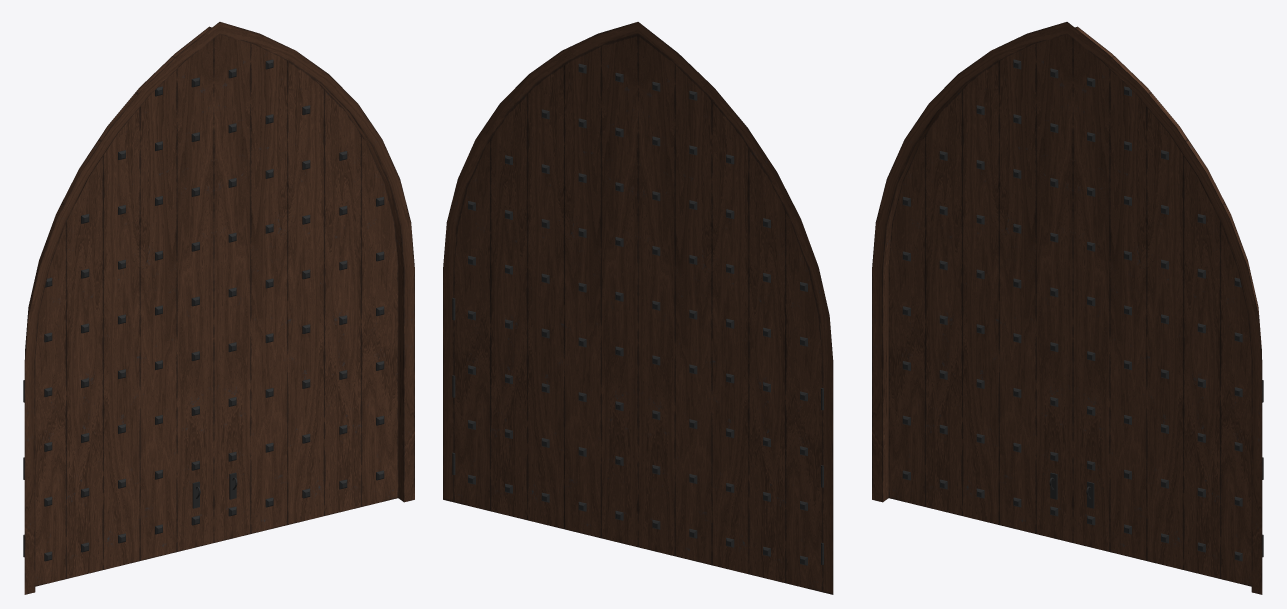
File: Door_I_Frame.fbx
The picture shows the model from 3 angles, left to right: view 1: azimuth 30°, elevation 25°; view 2: azimuth 150°, elevation 25°; view 3: azimuth 330°, elevation 25°; orthographic projection.
Parts seen in each view (by area): view 1: Door_I_A, Door_I_B, Door_I_Frame; view 2: Door_I_A, Door_I_B, Door_I_Frame; view 3: Door_I_B, Door_I_A, Door_I_Frame.
Part boxes in pixels (x1,y1,x2,y2): Door_I_A: [210, 27, 398, 542]; Door_I_B: [23, 26, 213, 586]; Door_I_Frame: [24, 22, 414, 594]; Door_I_A: [452, 34, 638, 547]; Door_I_B: [638, 34, 823, 592]; Door_I_Frame: [443, 22, 833, 594]; Door_I_B: [888, 27, 1076, 542]; Door_I_A: [1073, 26, 1263, 586]; Door_I_Frame: [872, 22, 1262, 594].
Size of the model in its own units: 4.15 by 0.2224 by 5.34.
